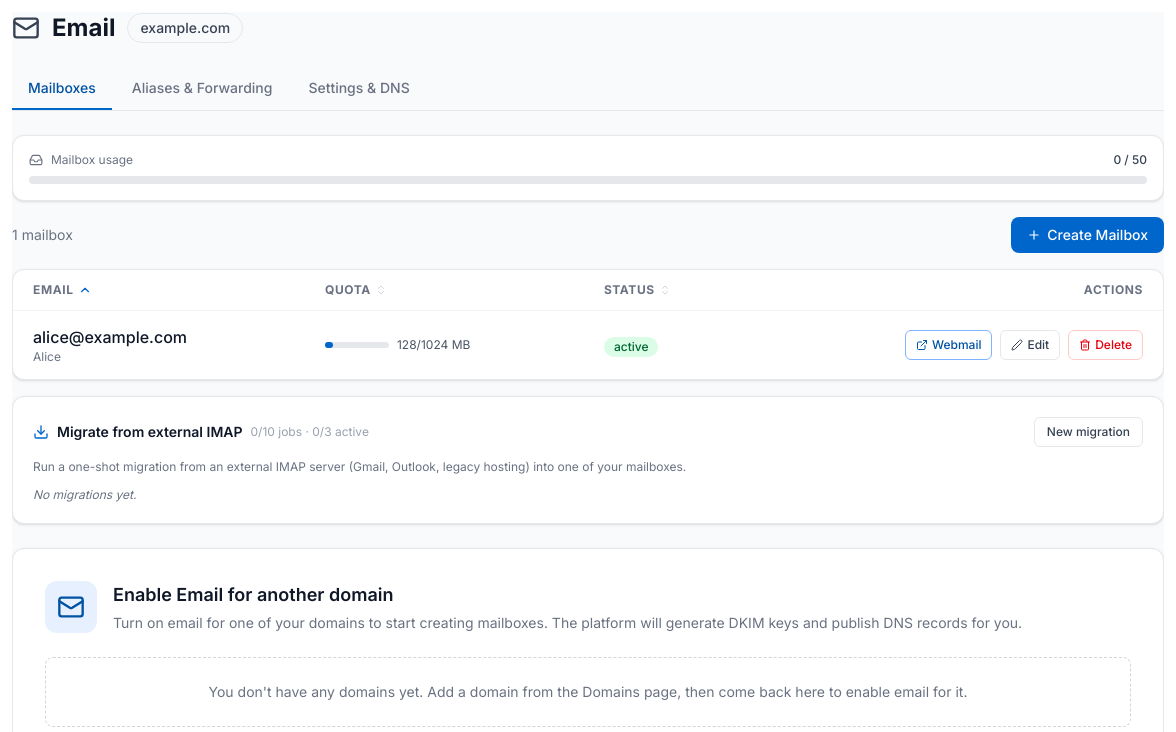
it: Email Page › shows the Settings & DNS tab when domains exist
Step 1. Click the button with test id "tab-settings" → (359, 89), box [292,68,426,110]
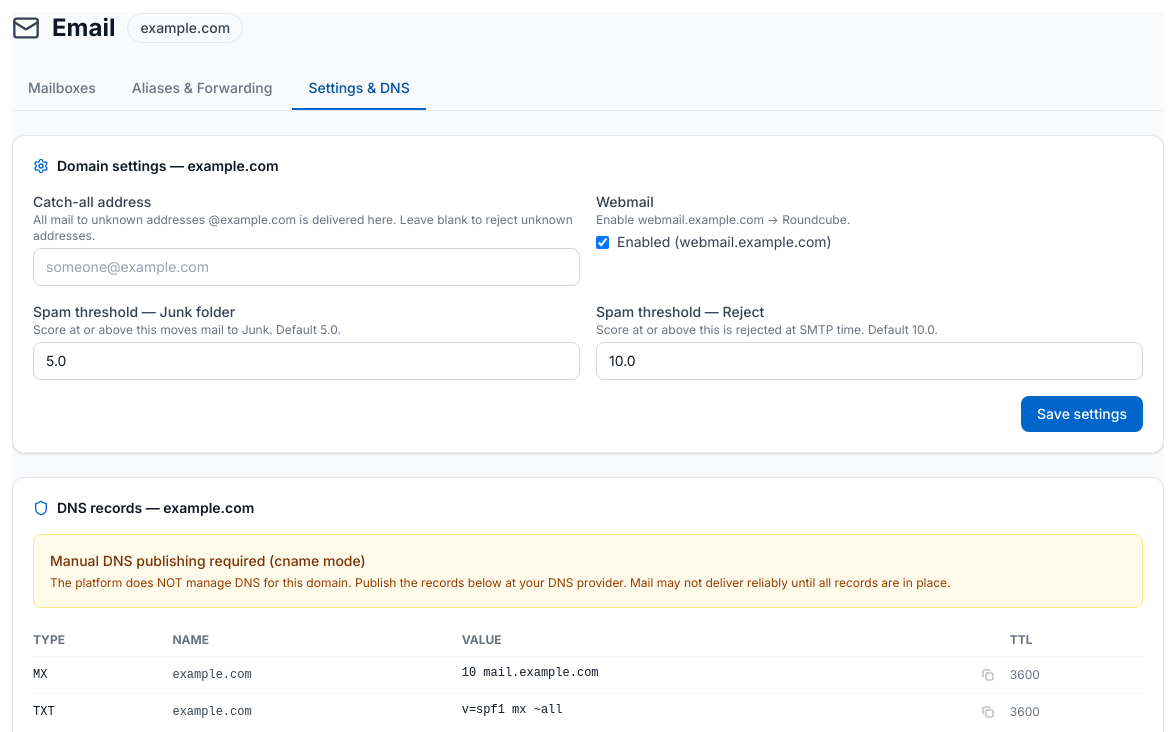
Result: the form with test id "domain-settings-form" is shown at [12,135,1164,453]
Result: the text "Manual DNS publishing required (cname mode)" is shown at [50,552,366,569]
Result: the table with test id "dns-records-table" is shown at [33,624,1143,730]
